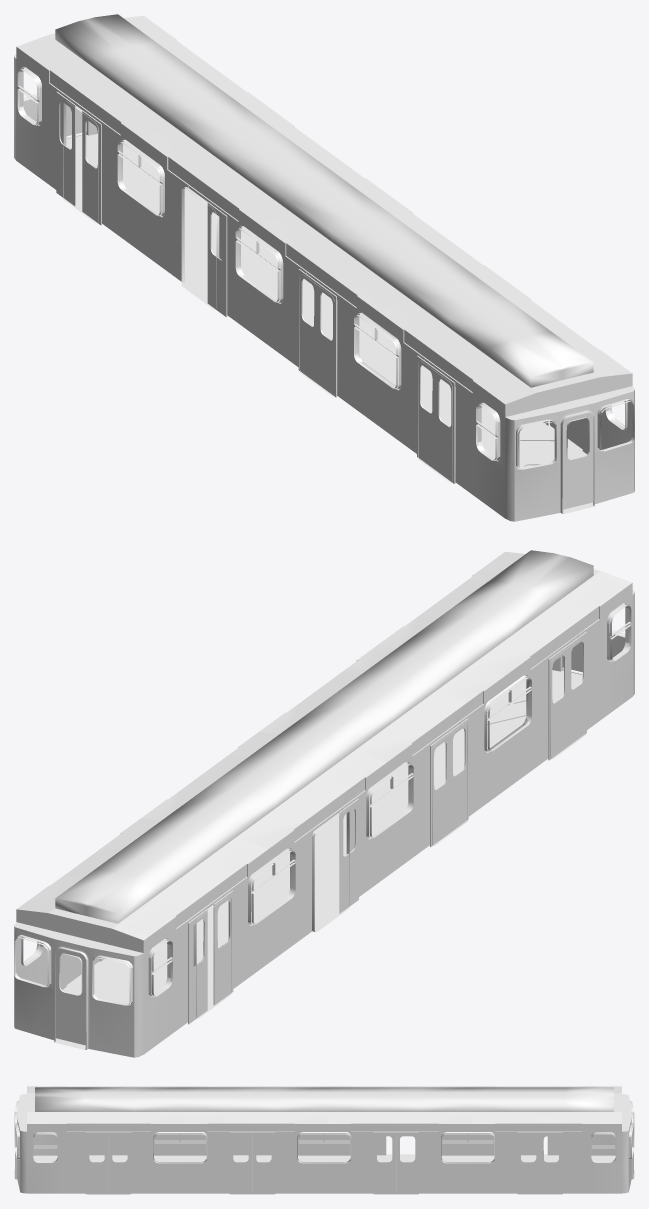
The picture shows the model from 3 angles, top to bottom: view 1: azimuth 30°, elevation 25°; view 2: azimuth 150°, elevation 25°; view 3: azimuth 270°, elevation 25°; orthographic projection. The views are drawn at different scales.
Bounding box in the file's own units: 2.9 × 2.68 × 18.85.
Materials: 1 (1 with a texture image).
